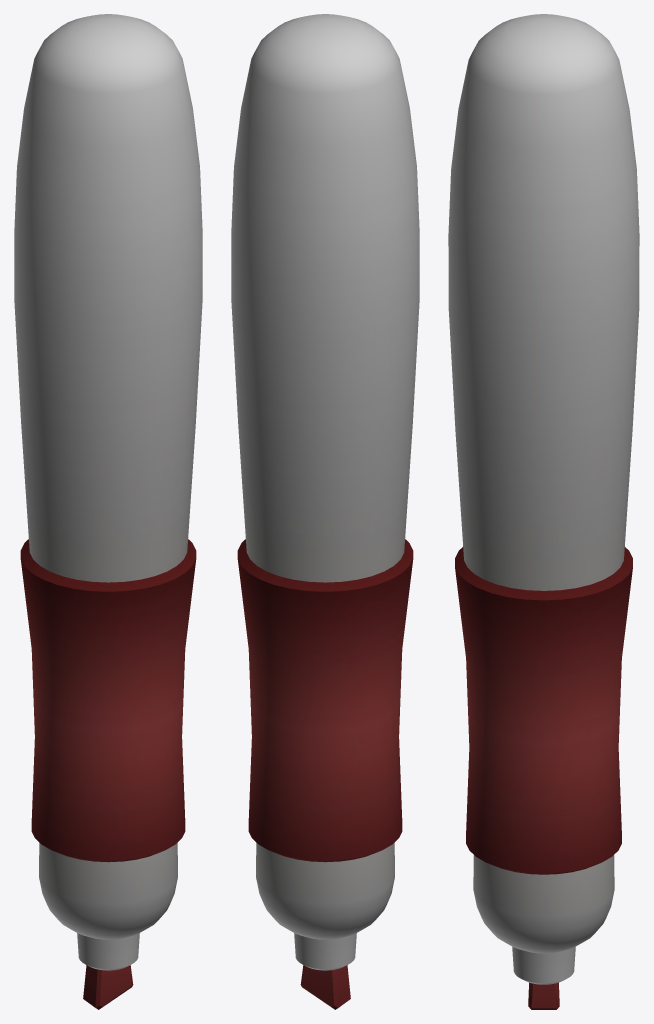
The model's file is plutopen.glb.
3 views of the same model, side by side, from view 1: azimuth 30°, elevation 25°; view 2: azimuth 150°, elevation 25°; view 3: azimuth 270°, elevation 25° (orthographic).
Parts seen in each view (by area): view 1: Pen01; view 2: Pen01; view 3: Pen01.
Part boxes in pixels (x1,y1,x2,y2): Pen01: [14, 14, 202, 1009]; Pen01: [231, 14, 419, 1009]; Pen01: [448, 14, 639, 1009].
Bounding box in the file's own units: 0.0176 × 0.1 × 0.0175.
Materials: 1 (1 with a texture image).
